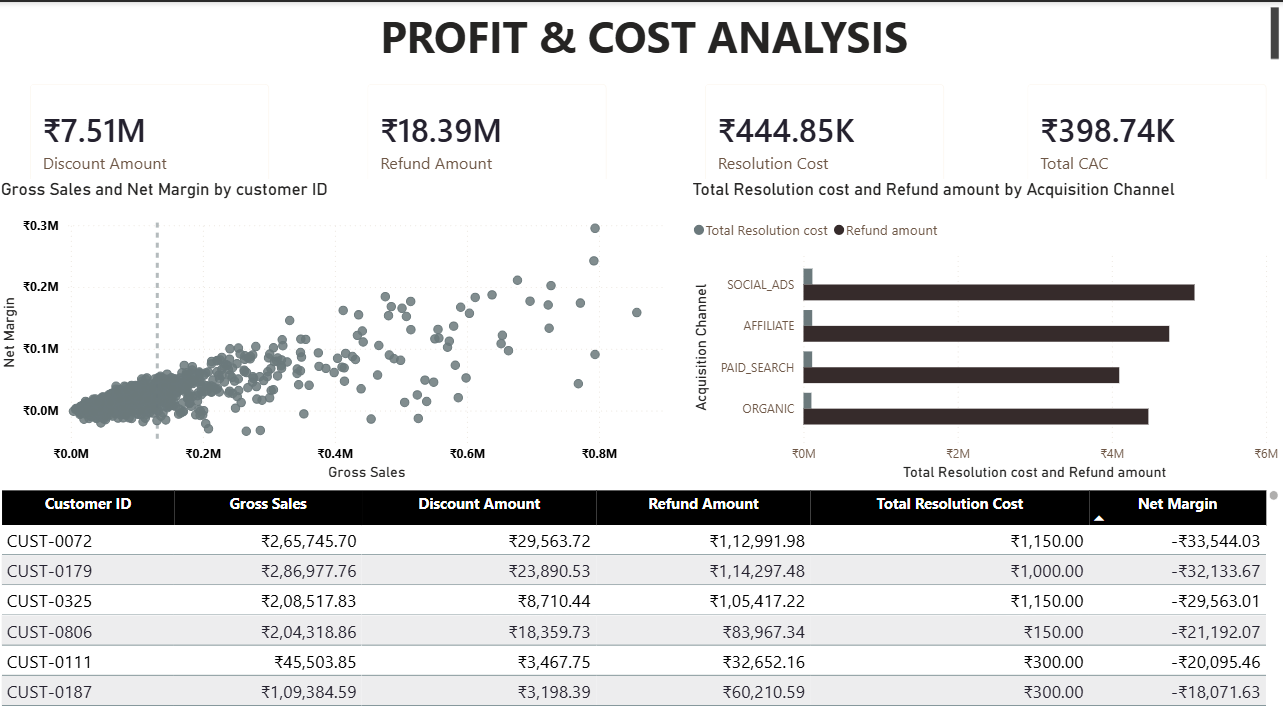

The page's visual inventory and layout, read from the dashboard file:
{"tool":"powerbi","page":{"name":"Profitability","canvas":[1280,720],"ordinal":1},"visuals":[{"type":"textbox","box":[16,0,1264,64],"z":0},{"type":"cardVisual","fields":{"Data":["Sum(mart_customer_360.discount_amount)"]},"box":[16,64,272,144],"z":1000},{"type":"cardVisual","fields":{"Data":["Sum(mart_customer_360.refund_amount)"]},"box":[352,64,272,144],"z":2000},{"type":"cardVisual","fields":{"Data":["Sum(mart_customer_360.total_resolution_cost)"]},"box":[688,64,272,144],"z":3000},{"type":"cardVisual","fields":{"Data":["Sum(mart_customer_360.cac)"]},"box":[1008,64,272,144],"z":4000},{"type":"scatterChart","fields":{"Category":["mart_customer_360.customer_id"],"X":["Sum(mart_customer_360.gross_sales)"],"Y":["Sum(mart_customer_360.rounded_true_net_margin)"]},"box":[0,176,688,304],"z":5000},{"type":"clusteredBarChart","fields":{"Category":["mart_customer_360.acquisition_channel"],"Y":["Sum(mart_customer_360.total_resolution_cost)","Sum(mart_customer_360.refund_amount)"]},"box":[688,176,592,304],"z":6000},{"type":"tableEx","fields":{"Values":["mart_customer_360.customer_id","Sum(mart_customer_360.gross_sales)","Sum(mart_customer_360.discount_amount)","Sum(mart_customer_360.refund_amount)","Sum(mart_customer_360.total_resolution_cost)","Sum(mart_customer_360.rounded_true_net_margin)"]},"box":[0,480,1280,240],"z":7000}]}

Visuals, with their boxes in screenshot pixels (x1, y1, x2, y2), scaled from the page's 1280x720 canvas onto the 1283x708 screenshot:
textbox: (x1=16, y1=0, x2=1282, y2=63)
cardVisual - Sum(mart_customer_360.discount_amount): (x1=16, y1=63, x2=289, y2=205)
cardVisual - Sum(mart_customer_360.refund_amount): (x1=353, y1=63, x2=625, y2=205)
cardVisual - Sum(mart_customer_360.total_resolution_cost): (x1=690, y1=63, x2=962, y2=205)
cardVisual - Sum(mart_customer_360.cac): (x1=1010, y1=63, x2=1282, y2=205)
scatterChart - mart_customer_360.customer_id x Sum(mart_customer_360.gross_sales): (x1=0, y1=173, x2=690, y2=472)
clusteredBarChart - mart_customer_360.acquisition_channel x Sum(mart_customer_360.total_resolution_cost): (x1=690, y1=173, x2=1282, y2=472)
tableEx - mart_customer_360.customer_id x Sum(mart_customer_360.gross_sales): (x1=0, y1=472, x2=1282, y2=707)
